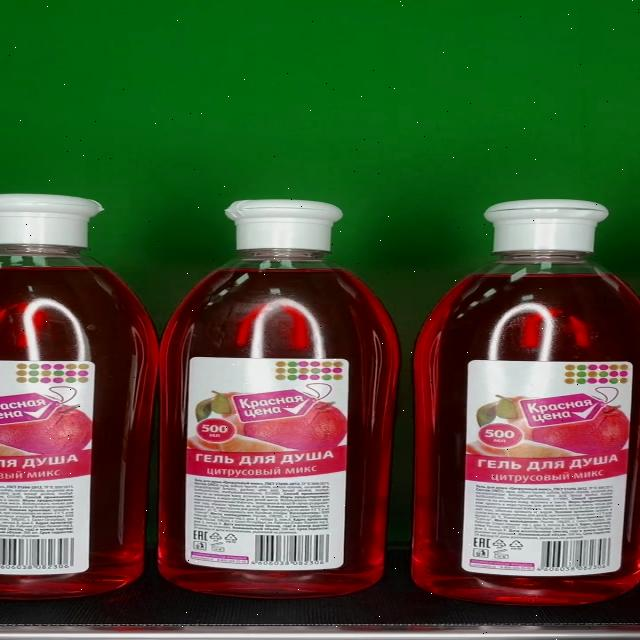Bottle: (158, 200, 401, 599), (411, 199, 640, 605)
Cap: (484, 199, 610, 252), (225, 200, 345, 250)
